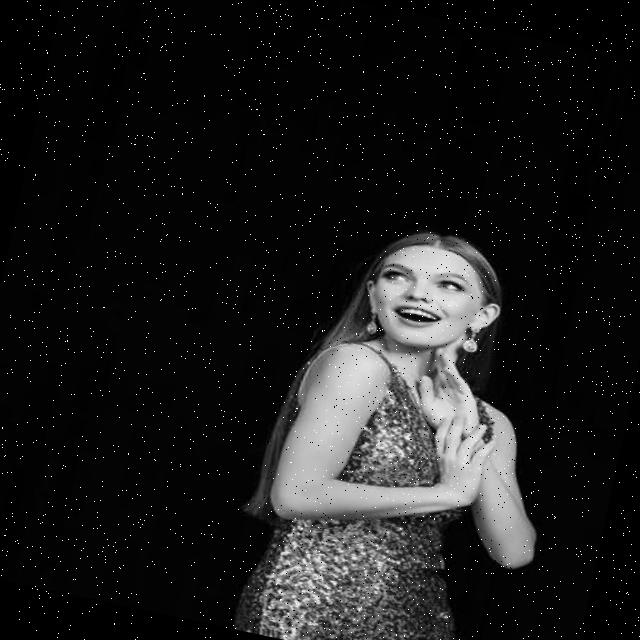Surprised: (364, 237, 491, 358)
